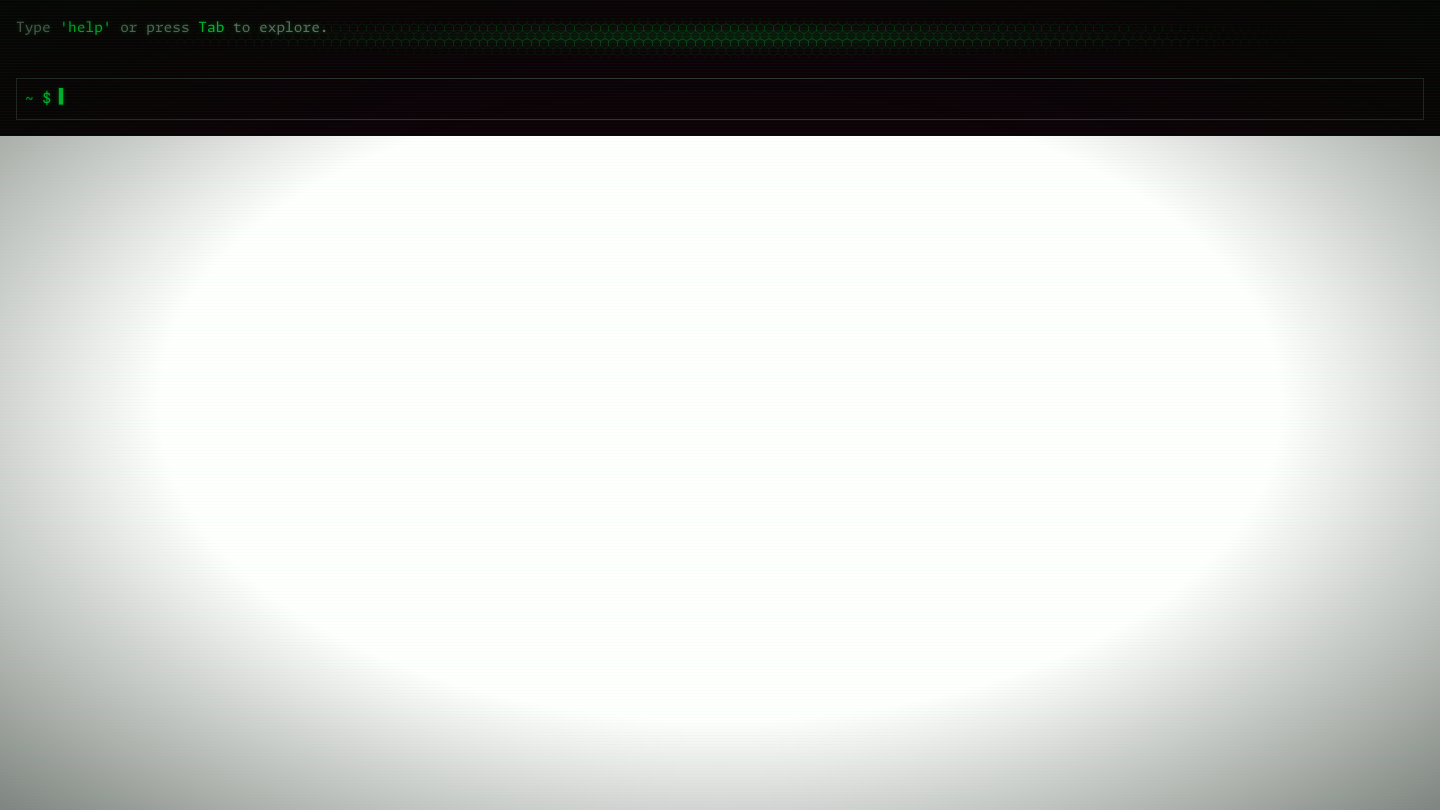
Test: Terminal › shows theme info when no argument given
Type "theme" into the field at (737, 100), box x1=59 y1=90 x2=1415 y2=110
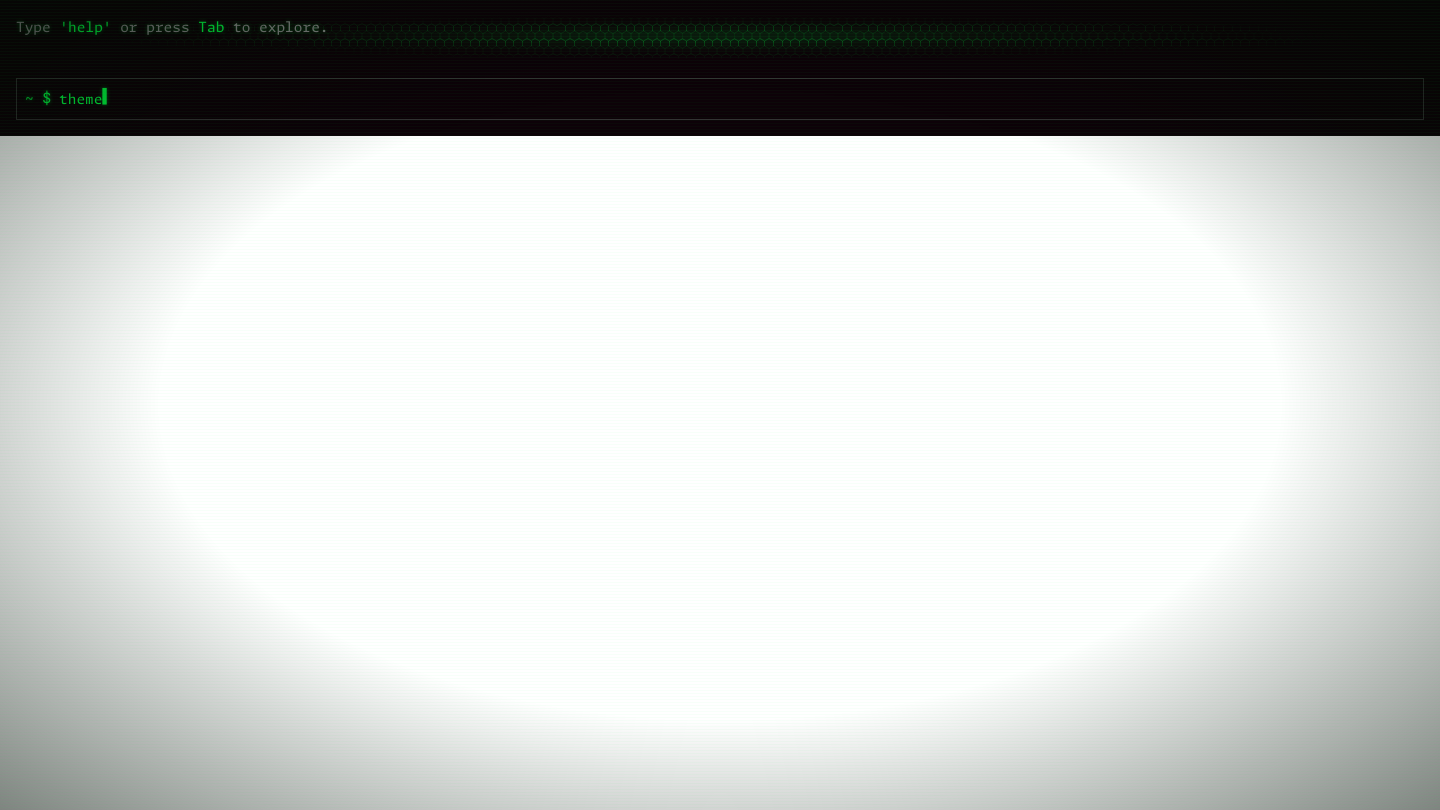
Press Enter in the field, box x1=59 y1=90 x2=1415 y2=110
Wait 600 ms
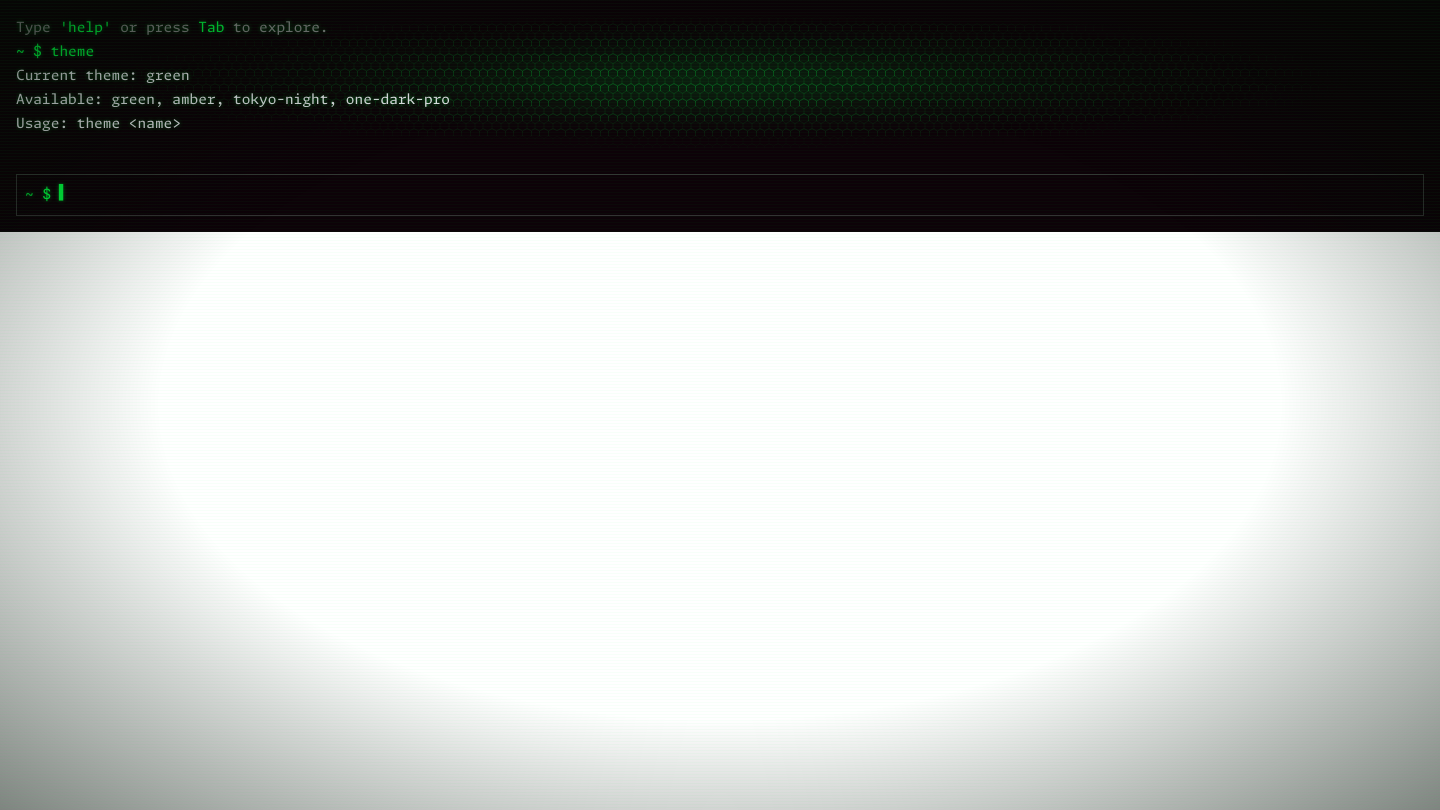
Expected: the text "Current theme: green" is shown, x1=16 y1=69 x2=190 y2=83
Expected: the text "Available: green, amber, tokyo-night, one-dark-pro" is shown, x1=16 y1=93 x2=450 y2=107
